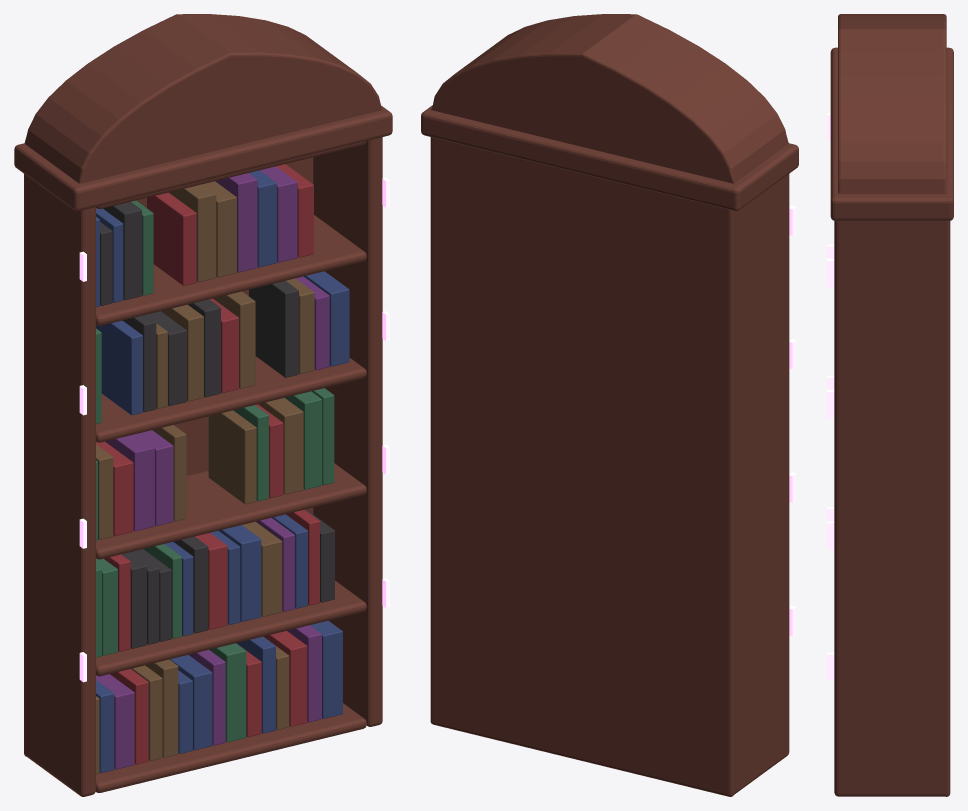
The model's file is bookshelf_rune_carved.glb.
The picture shows the model from 3 angles, left to right: view 1: azimuth 30°, elevation 25°; view 2: azimuth 150°, elevation 25°; view 3: azimuth 270°, elevation 25°; orthographic projection.
Visible parts, largest first — view 1: GD_bookshelf_rune_carved__m0, GD_bookshelf_rune_carved__m4, GD_bookshelf_rune_carved__m1, GD_bookshelf_rune_carved__m3, GD_bookshelf_rune_carved__m6, GD_bookshelf_rune_carved__m2, GD_bookshelf_rune_carved__m5, GD_bookshelf_rune_carved__m7; view 2: GD_bookshelf_rune_carved__m0, GD_bookshelf_rune_carved__m7; view 3: GD_bookshelf_rune_carved__m0, GD_bookshelf_rune_carved__m7.
Boxes of the visible parts, left/top/right/bottom form: GD_bookshelf_rune_carved__m0: left=14, top=14, right=392, bottom=796; GD_bookshelf_rune_carved__m4: left=96, top=181, right=314, bottom=774; GD_bookshelf_rune_carved__m1: left=96, top=170, right=349, bottom=773; GD_bookshelf_rune_carved__m3: left=96, top=164, right=319, bottom=764; GD_bookshelf_rune_carved__m6: left=100, top=201, right=334, bottom=648; GD_bookshelf_rune_carved__m2: left=96, top=166, right=329, bottom=769; GD_bookshelf_rune_carved__m5: left=96, top=200, right=334, bottom=742; GD_bookshelf_rune_carved__m7: left=79, top=178, right=389, bottom=682; GD_bookshelf_rune_carved__m0: left=421, top=14, right=798, bottom=796; GD_bookshelf_rune_carved__m7: left=789, top=205, right=796, bottom=635; GD_bookshelf_rune_carved__m0: left=830, top=14, right=953, bottom=796; GD_bookshelf_rune_carved__m7: left=827, top=113, right=834, bottom=680.
Size of the model in its own units: 1 by 2.12 by 0.35.
